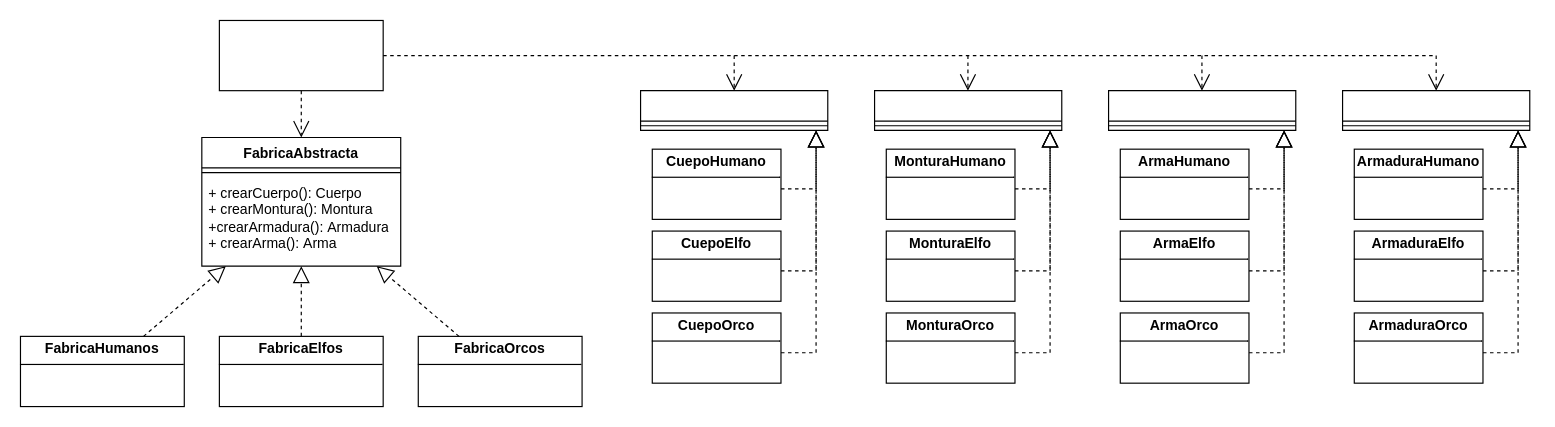
Image size: 1555x427. Some labels were removed from this diagram. Here are the shapes that lost their labels. From the top down, the centre of each, then its label:
the point at 300,55: Cliente
the point at 733,110: ICuerpo
the point at 967,110: IMontura
the point at 1201,110: IArma
the point at 1435,110: IArmadura
